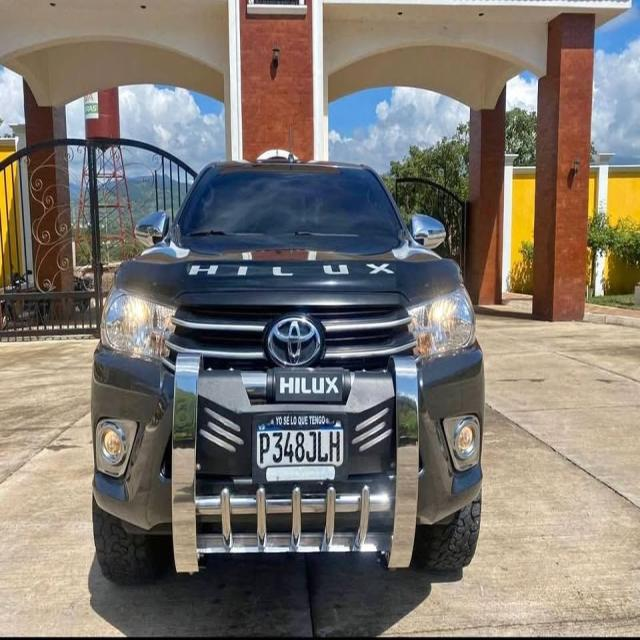Placas: (249, 407, 352, 490)
